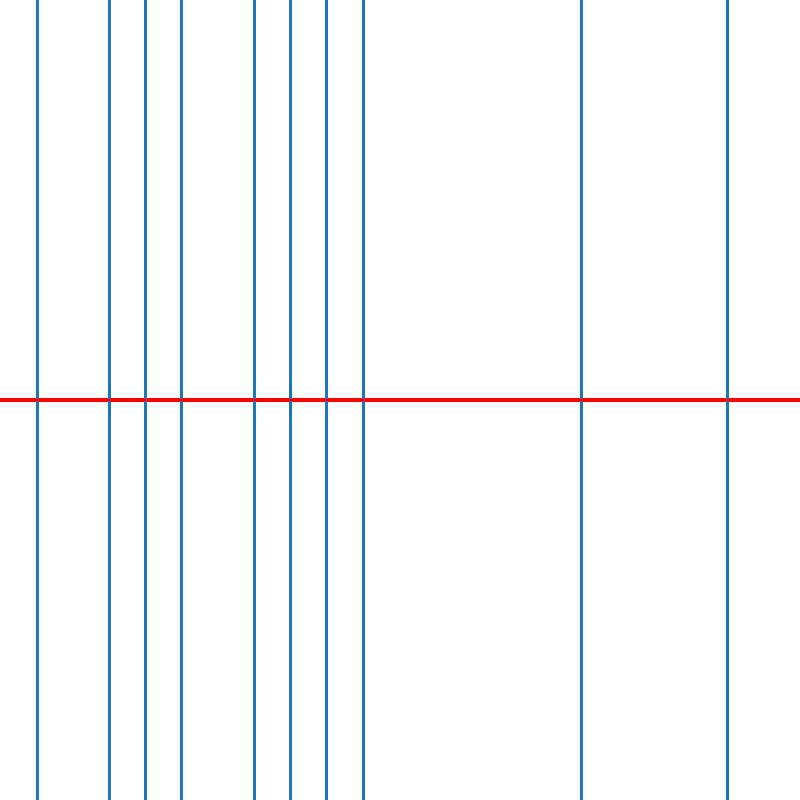root: (141, 396, 149, 404), (32, 396, 40, 404), (250, 396, 258, 404), (287, 396, 294, 404), (323, 396, 330, 404), (178, 396, 185, 404), (360, 396, 367, 404), (723, 396, 730, 404), (105, 396, 112, 404), (578, 396, 585, 404)
